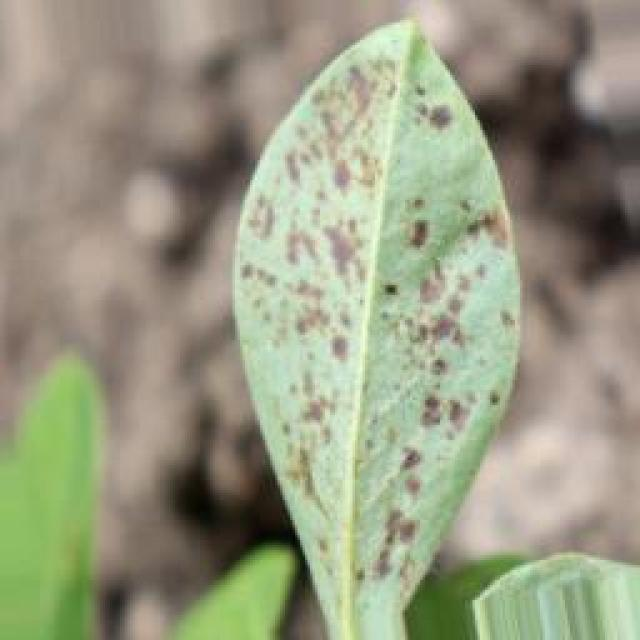Whitefly: (238, 9, 534, 600)
